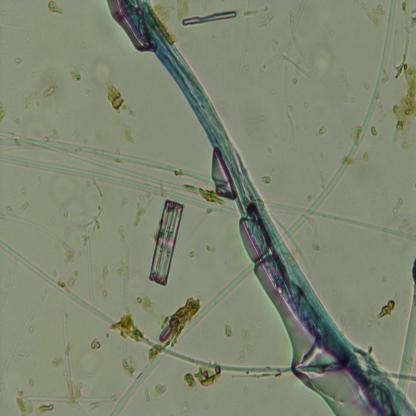Air bubble: (183, 11, 236, 25)
Background material: (391, 65, 416, 146), (156, 297, 200, 338), (15, 386, 55, 413), (108, 81, 136, 119), (182, 367, 224, 390), (134, 293, 165, 324), (358, 0, 386, 28), (131, 192, 152, 226), (374, 294, 399, 321), (121, 354, 136, 379), (23, 92, 40, 113), (120, 123, 136, 144), (46, 0, 65, 16), (66, 267, 80, 288), (100, 264, 108, 297), (152, 381, 166, 398), (90, 334, 102, 352), (223, 324, 234, 339), (317, 124, 330, 136), (44, 85, 57, 97), (0, 102, 7, 124), (261, 173, 272, 186), (369, 123, 379, 137), (206, 244, 216, 256), (14, 53, 23, 66)
Cotton: (118, 1, 415, 415)
Diatom: (150, 199, 184, 285)
Glass filter fibre: (0, 241, 291, 375), (281, 0, 396, 242), (112, 262, 258, 415), (0, 127, 239, 216), (265, 200, 416, 241), (1, 286, 50, 373), (279, 0, 308, 145), (391, 295, 416, 414), (0, 214, 68, 251), (59, 302, 74, 396), (238, 8, 256, 80), (396, 0, 412, 75), (24, 392, 118, 403), (84, 225, 95, 306), (72, 61, 90, 78)
